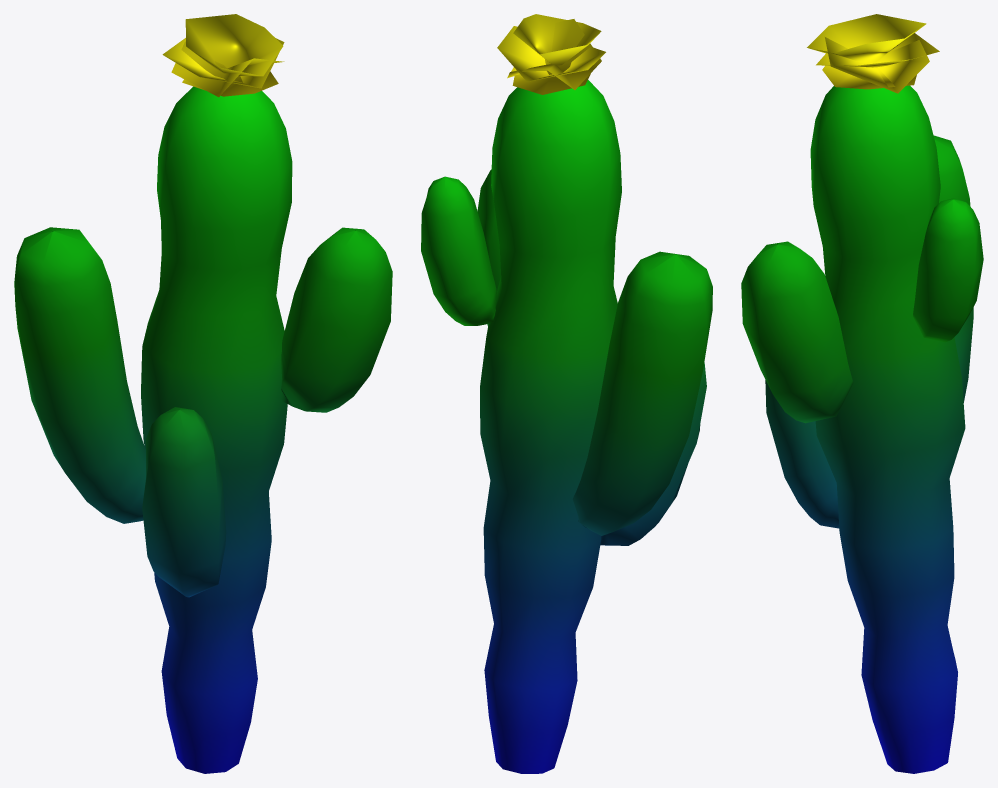
The model's file is Grocactus6.fbx.
The picture shows the model from 3 angles, left to right: view 1: azimuth 30°, elevation 25°; view 2: azimuth 150°, elevation 25°; view 3: azimuth 270°, elevation 25°; orthographic projection. The views are drawn at different scales.
Parts seen in each view (by area): view 1: Grocactus6_LOD0; view 2: Grocactus6_LOD0; view 3: Grocactus6_LOD0.
Boxes of the visible parts, x1,y1,x2,y2 form: Grocactus6_LOD0: (14,14,392,773); Grocactus6_LOD0: (421,14,712,773); Grocactus6_LOD0: (741,14,983,773).
Size of what is drawn, in the model's own units: 206 by 491 by 147.
